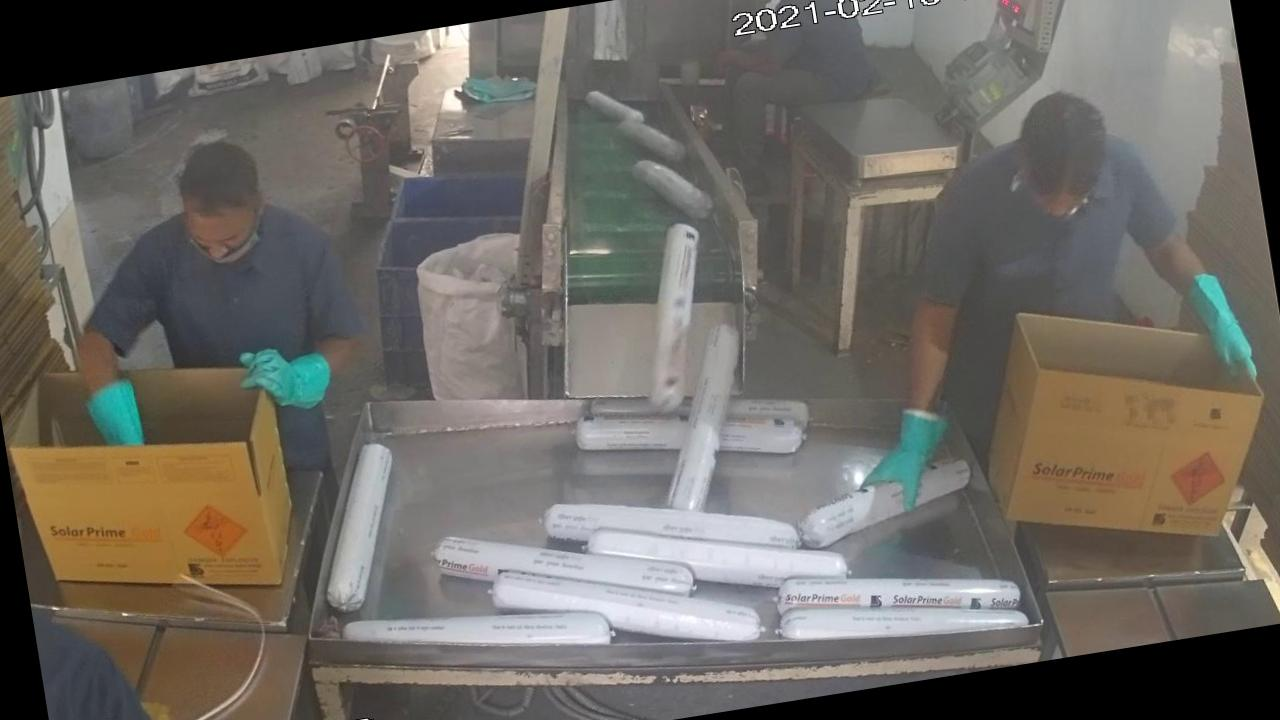Gloves: (826, 284, 994, 524), (1103, 200, 1271, 408), (59, 317, 182, 476), (221, 326, 369, 433)
No-gloves: (709, 32, 798, 92)
